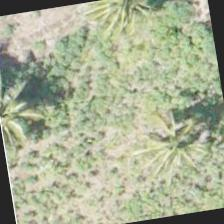Kelapa_Sawit: (120, 92, 223, 196), (71, 0, 169, 58), (0, 54, 52, 151)
